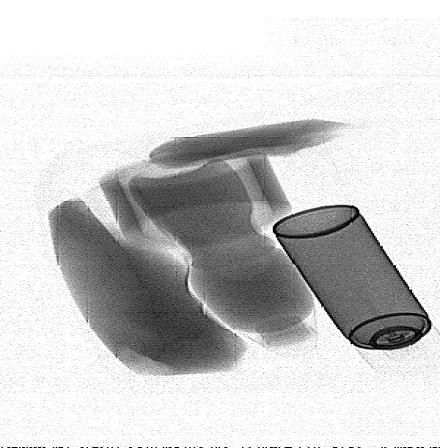Sprayer: (272, 205, 439, 376)
